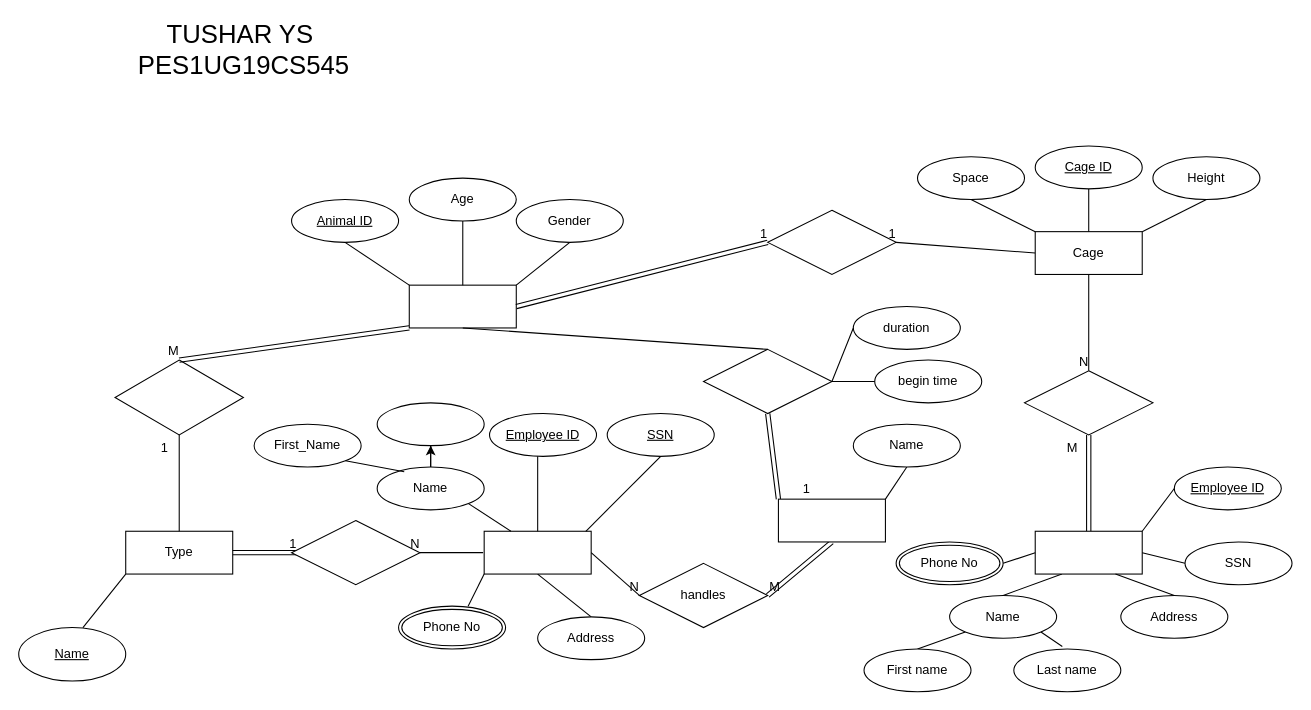
The diagram is 1311 pixels wide and 710 high, and some of its shapes have lost their labels. Here are the shapes that lost their labels. From the top down, the box of each, then its label:
(767, 209, 896, 274): in cage
(408, 284, 516, 328): Animal
(114, 359, 243, 435): belong
(702, 348, 832, 414): Has disease
(1023, 370, 1153, 435): managed by
(376, 402, 484, 446): Last_Name
(777, 498, 885, 542): Diseases
(291, 519, 420, 585): takes care
(483, 530, 591, 574): Type keeper
(1034, 530, 1142, 574): Cage keeper
